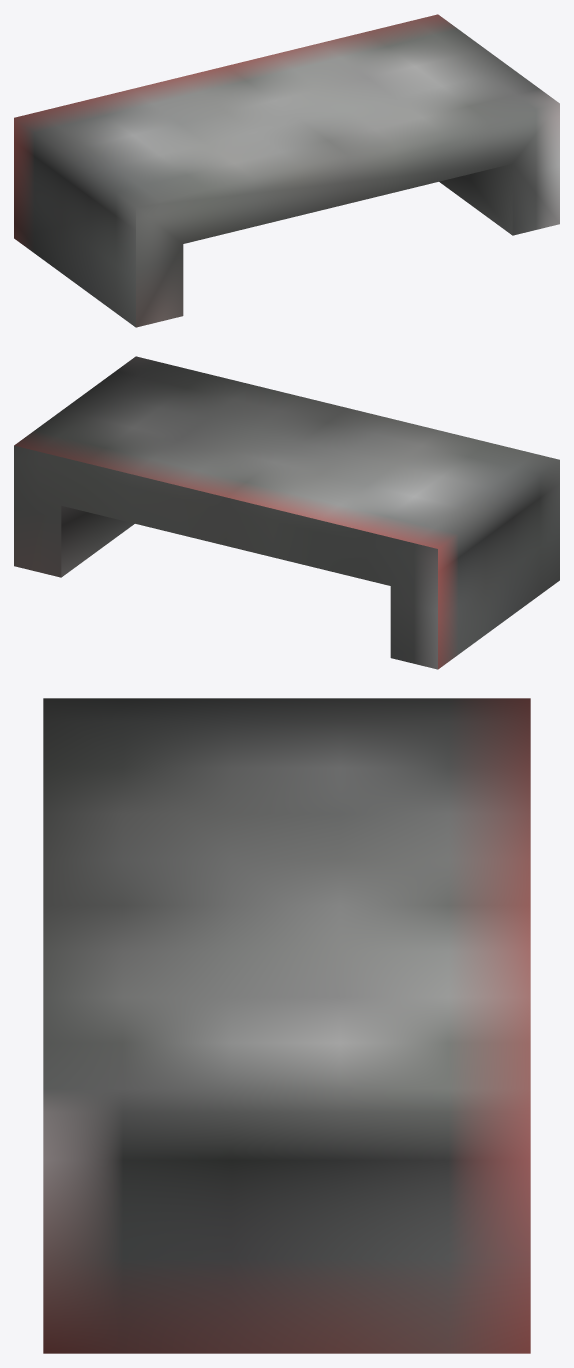
The model's file is Metal1.FBX.
3 renders of one model, top to bottom at view 1: azimuth 30°, elevation 25°; view 2: azimuth 150°, elevation 25°; view 3: azimuth 270°, elevation 25°, orthographic. The views are drawn at different scales.
Visible parts, largest first — view 1: Metal1; view 2: Metal1; view 3: Metal1.
Boxes of the visible parts, x1=… form: Metal1: x1=14, y1=14, x2=559, y2=327; Metal1: x1=14, y1=356, x2=559, y2=669; Metal1: x1=43, y1=698, x2=530, y2=1353.
Bounding box in the file's own units: 8.79 × 2.39 × 4.38.
1 material, 1 textured.
